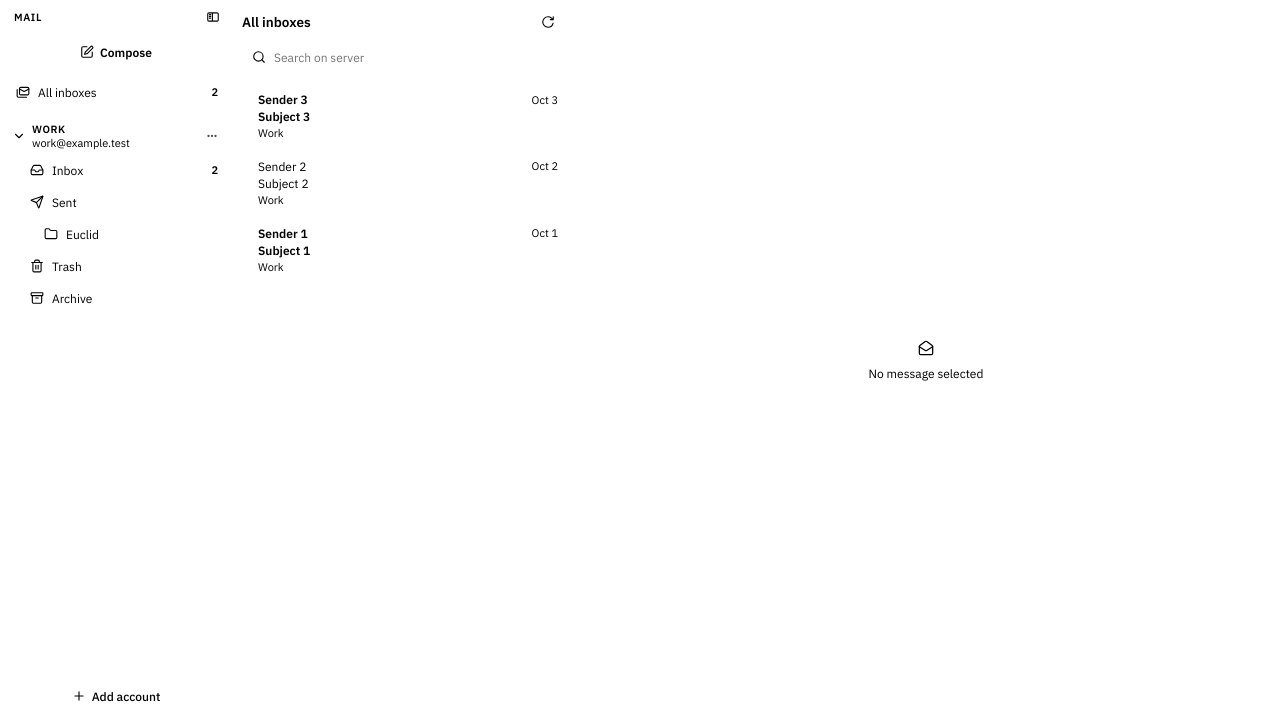
Test: move: the row leaves at once, the reader closes, Undo moves it back from its new position
What coordinates should you click on to do the following:
click the button "Inbox 2"
I would click on:
 (116, 170)
Its box is [6,154,226,186].
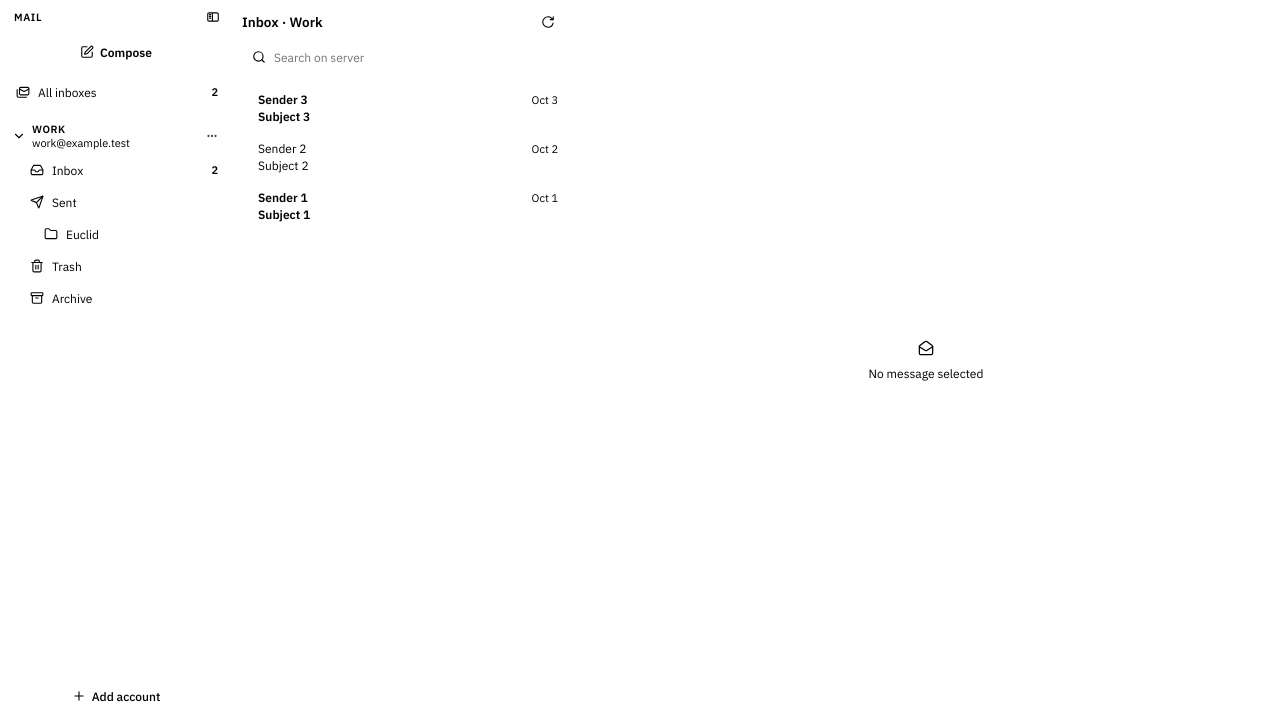
What coordinates should you click on to do the following:
click the button "Sender 3 Oct 3 Subject 3"
I would click on:
 (283, 100)
Its box is [238,84,566,133].
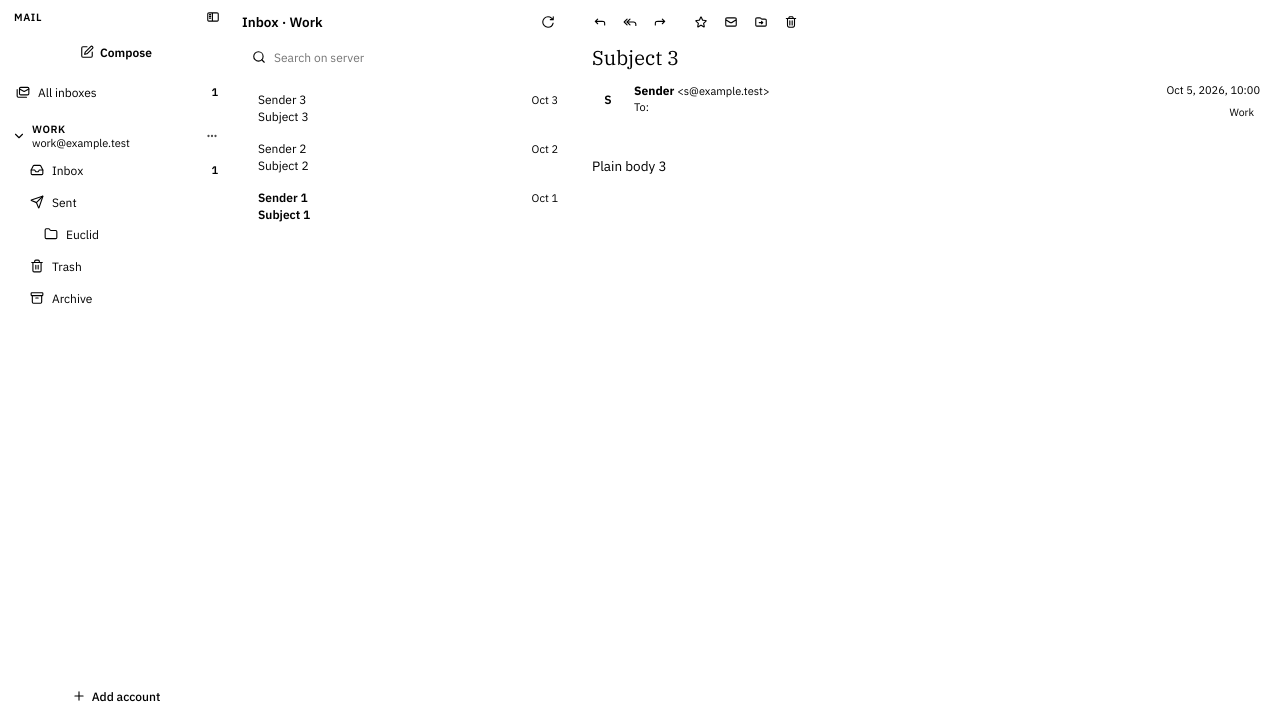
Expected: the text "Plain body 3" is shown, [592,157,666,175]
What coordinates should you click on to do the following:
click the button named "Move to folder"
I would click on:
 (761, 22)
Its box is [747,8,775,36].
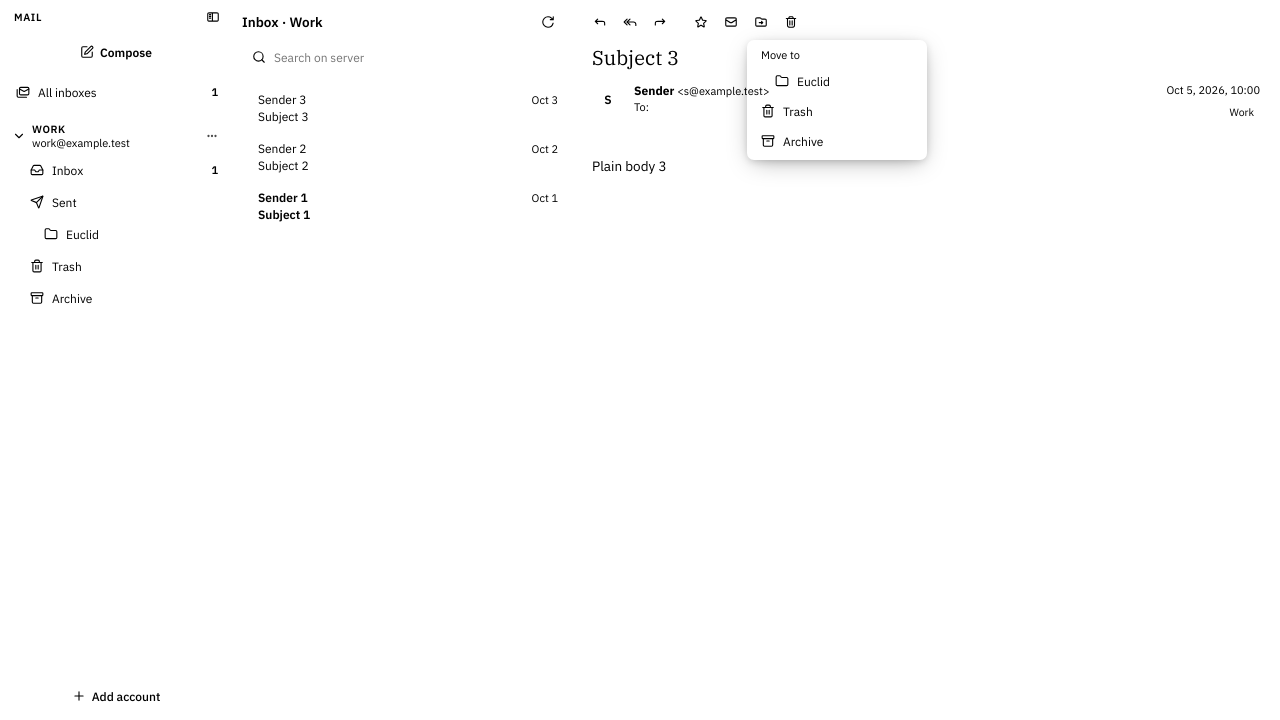
What coordinates should you click on to do the following:
click the button "Euclid" below "Move to"
I would click on:
 (837, 81)
Its box is [751,66,923,96].
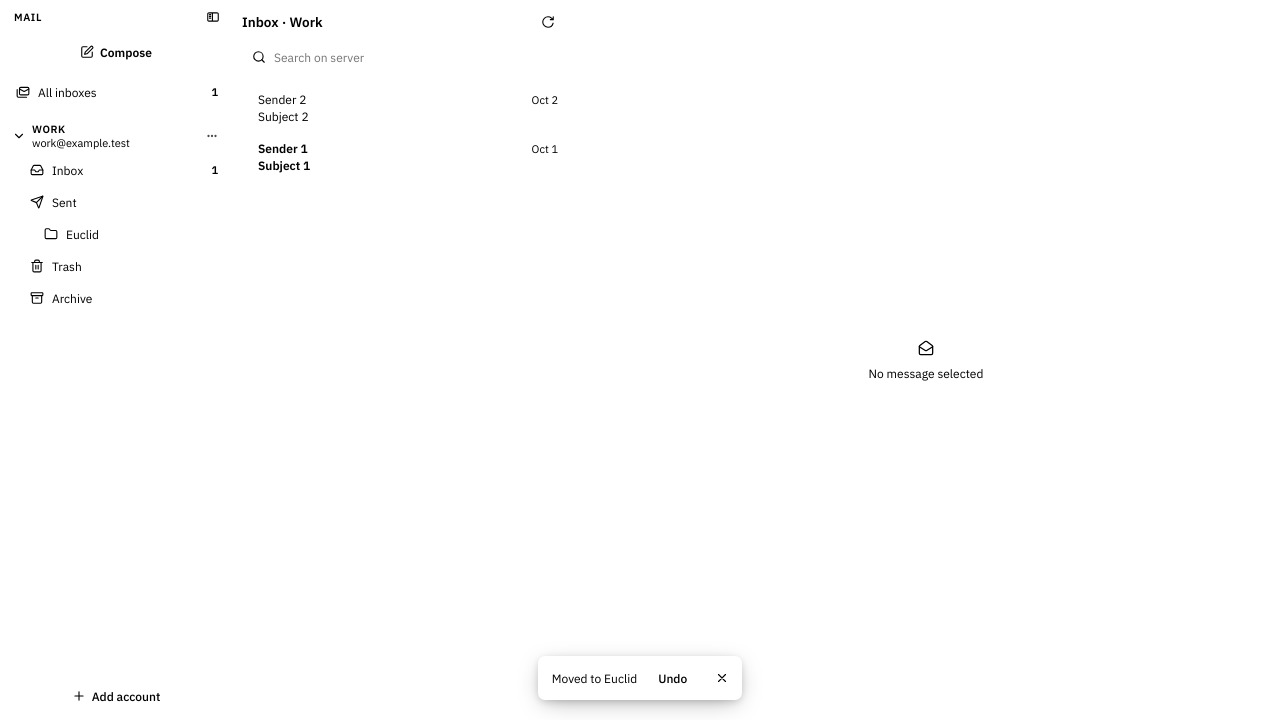
Expected: the text "Moved to Euclid" is shown, [552,670,637,686]
What coordinates should you click on to do the following:
click the button "Undo"
I would click on:
 (673, 678)
Its box is [647,662,698,694].
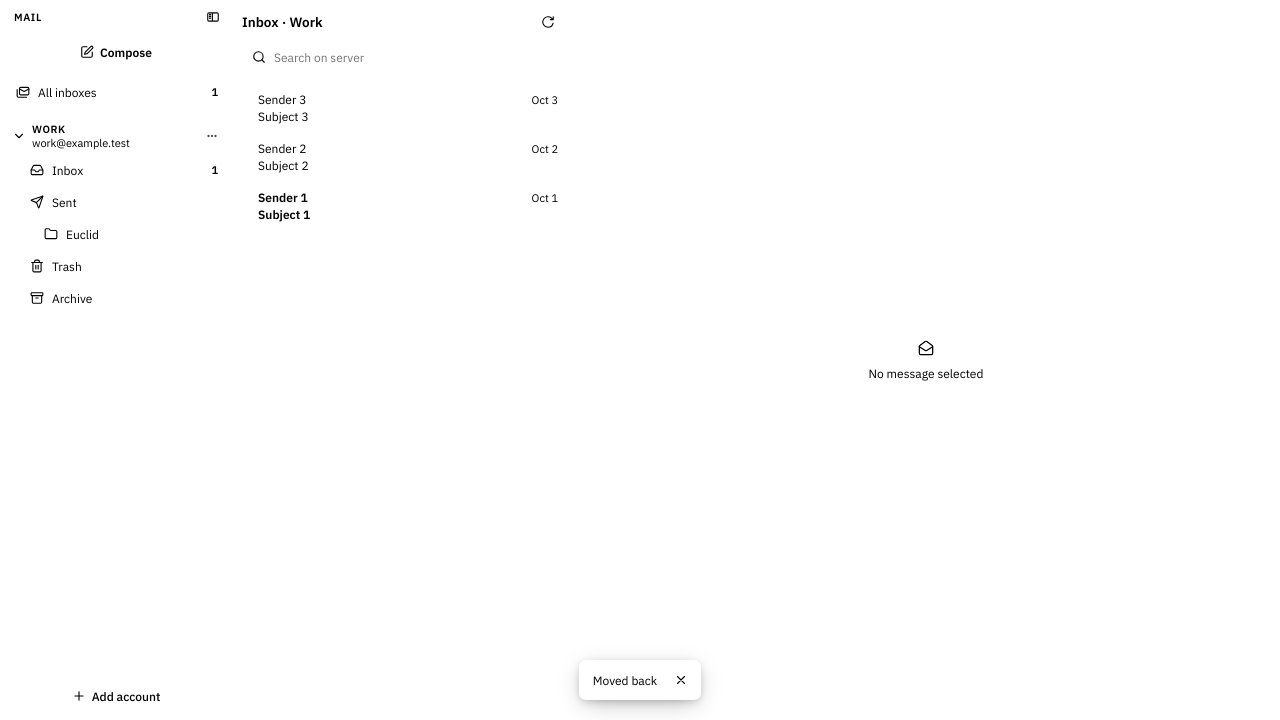
Expected: the text "Moved back" is shown, [593,672,657,688]
